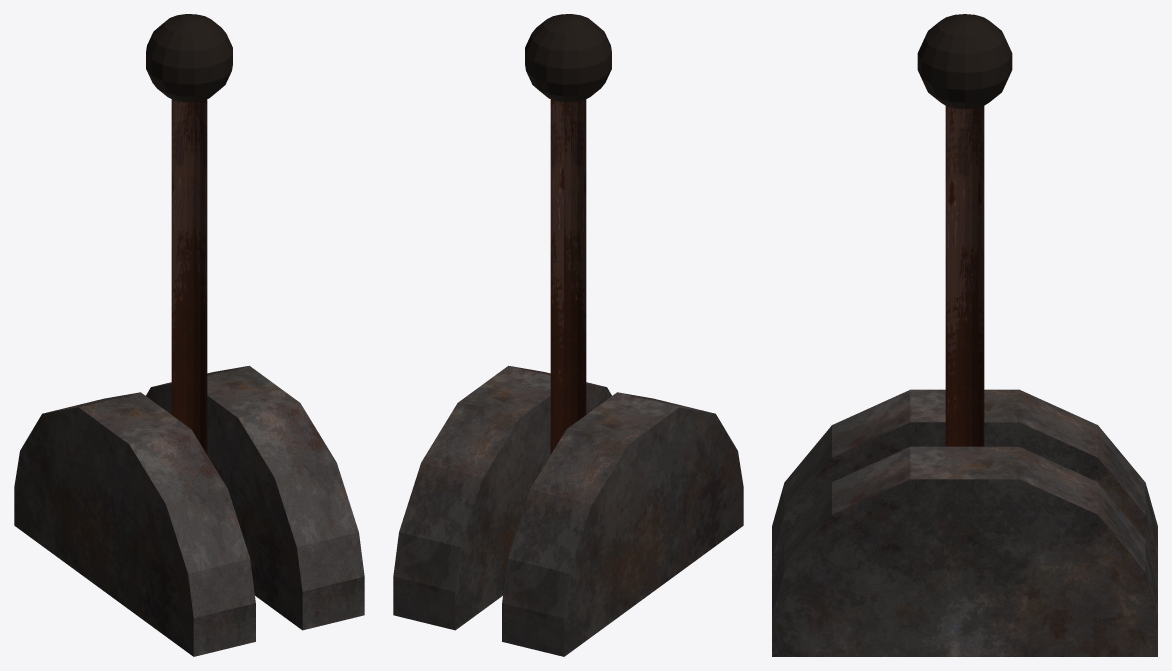
Rendered from lever_m1.fbx.
3 views of the same model, side by side, from view 1: azimuth 30°, elevation 25°; view 2: azimuth 150°, elevation 25°; view 3: azimuth 270°, elevation 25° (orthographic). The views are drawn at different scales.
Visible parts, largest first — view 1: LeverHub, Lever; view 2: LeverHub, Lever; view 3: LeverHub, Lever.
Part boxes in pixels (bbox=[...]): LeverHub: bbox=[14, 365, 364, 656]; Lever: bbox=[146, 14, 232, 454]; LeverHub: bbox=[393, 365, 743, 656]; Lever: bbox=[525, 14, 611, 454]; LeverHub: bbox=[772, 389, 1157, 656]; Lever: bbox=[917, 14, 1012, 446].
Size of the model in its own units: 0.44 by 0.8 by 1.36.
